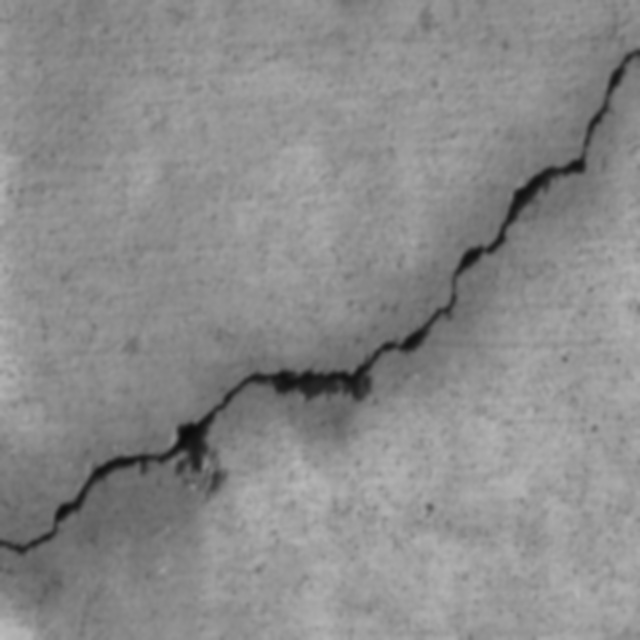SurfaceCrack: (1, 2, 640, 622)
